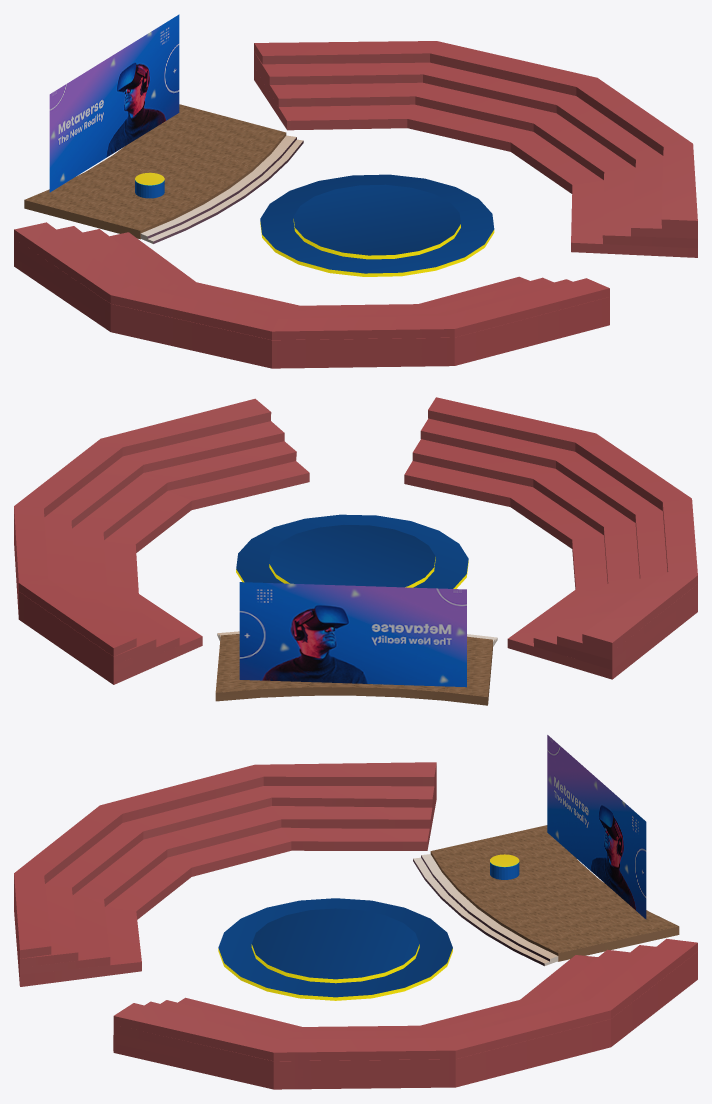
Rendered from Stadium_Int.glb.
3 views of the same model, one above another, from view 1: azimuth 30°, elevation 25°; view 2: azimuth 150°, elevation 25°; view 3: azimuth 270°, elevation 25° (orthographic).
Parts seen in each view (by area): view 1: polySurface869.001; view 2: polySurface869.001; view 3: polySurface869.001.
Boxes of the visible parts, x1,y1,x2,y2 form: polySurface869.001: (14, 14, 697, 368); polySurface869.001: (14, 397, 697, 705); polySurface869.001: (14, 735, 697, 1089).
Bounding box in the file's own units: 70.3 × 12.36 × 69.96.
4 materials, 4 textured.
